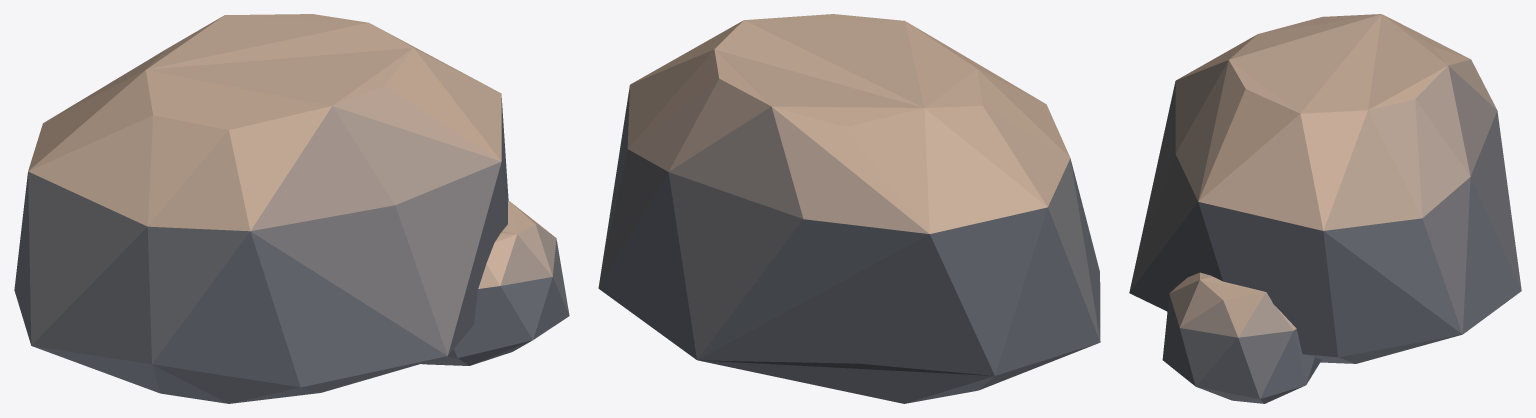
Rendered from rock_large.fbx.
The picture shows the model from 3 angles, left to right: view 1: azimuth 30°, elevation 25°; view 2: azimuth 150°, elevation 25°; view 3: azimuth 270°, elevation 25°; orthographic projection. The views are drawn at different scales.
Parts seen in each view (by area): view 1: rock_large; view 2: rock_large; view 3: rock_large.
Boxes of the visible parts, x1,y1,x2,y2 form: rock_large: (14, 14, 569, 403); rock_large: (598, 14, 1100, 403); rock_large: (1129, 14, 1521, 403).
Size of the model in its own units: 3.58 by 1.95 by 2.74.
